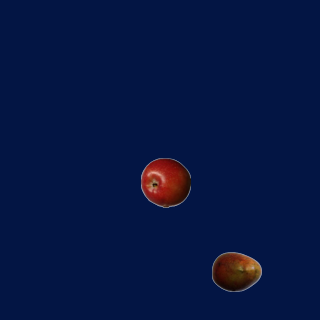Apple Braeburn: (140, 157, 190, 207)
Mango Red: (211, 246, 261, 296)
